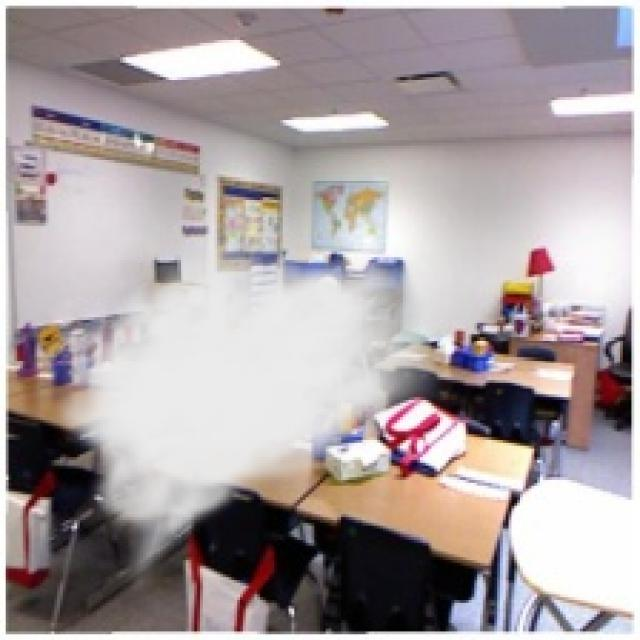smoke: (43, 232, 457, 597)
